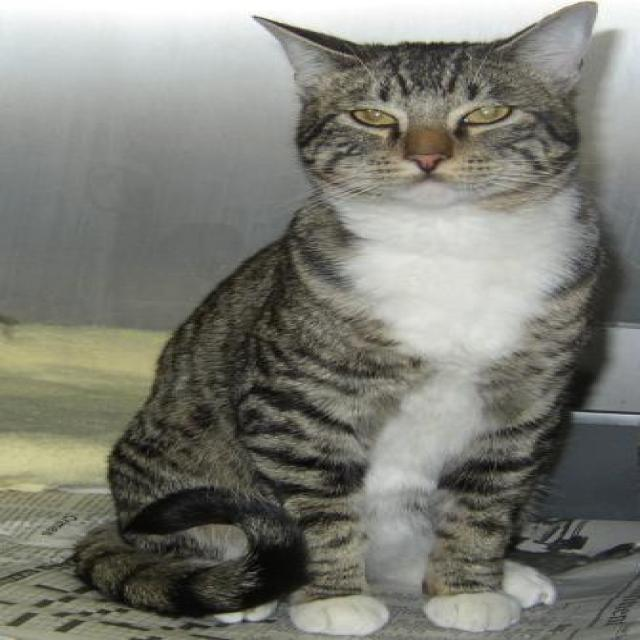Cats: (69, 0, 607, 635)
